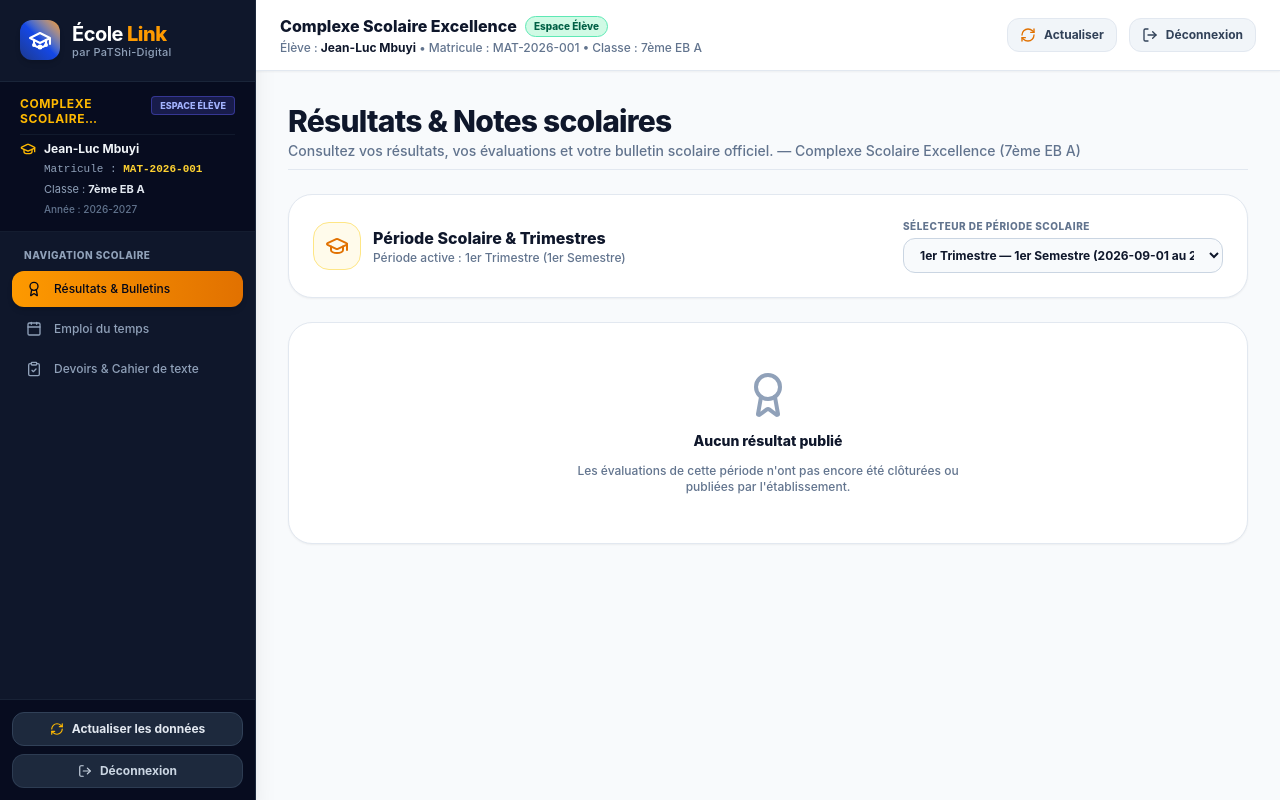
Test: StudentTimetable Frontend Suite — Lot 2K-T6-F › 5. Gère un emploi du temps vide (slots.length === 0)
Expected: the text "Résultats & Bulletins" is shown, [54,280,170,296]
Click the button "Emploi du temps" at [128, 328], box [12,310,243,346]
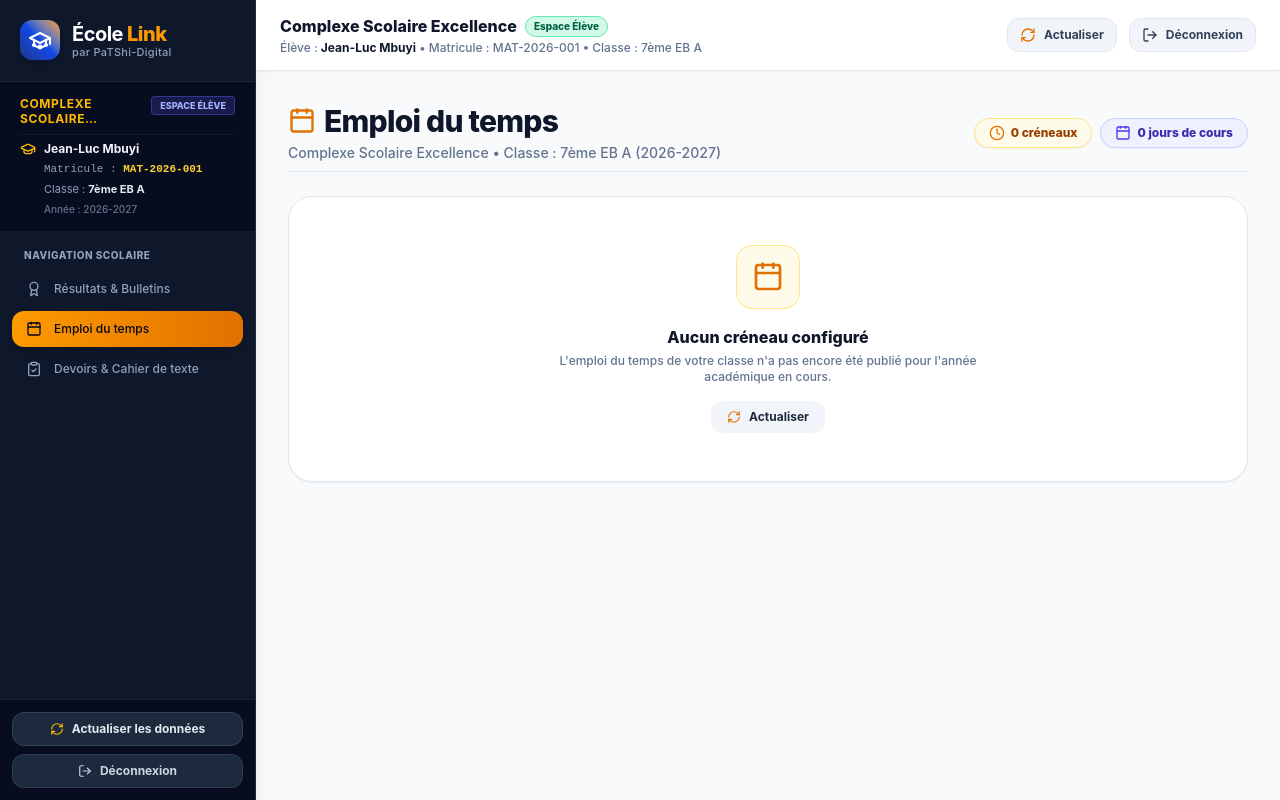
Expected: the heading "Aucun créneau configuré" is shown, [667,327,869,347]
